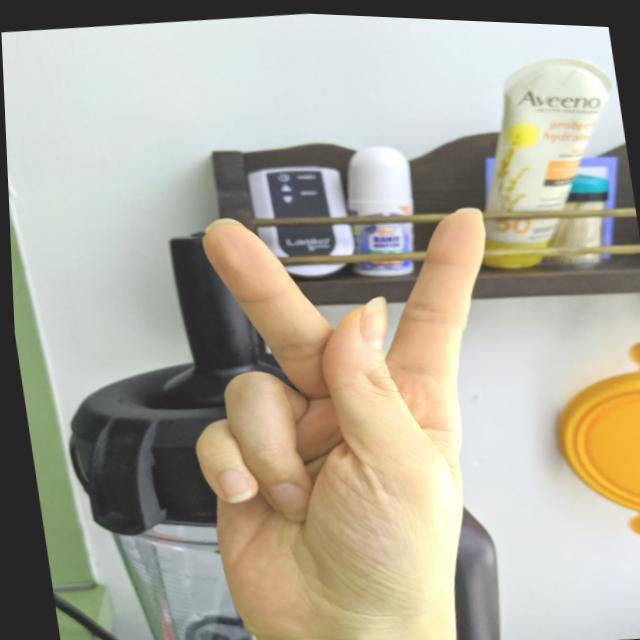K: (141, 180, 554, 639)
